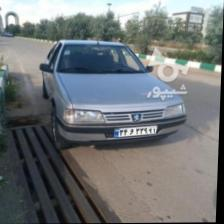plate: (114, 124, 158, 138)
